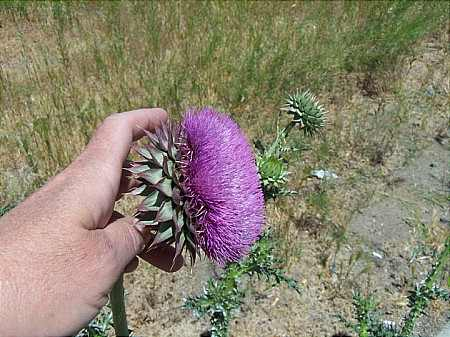thistle: (126, 103, 268, 284)
